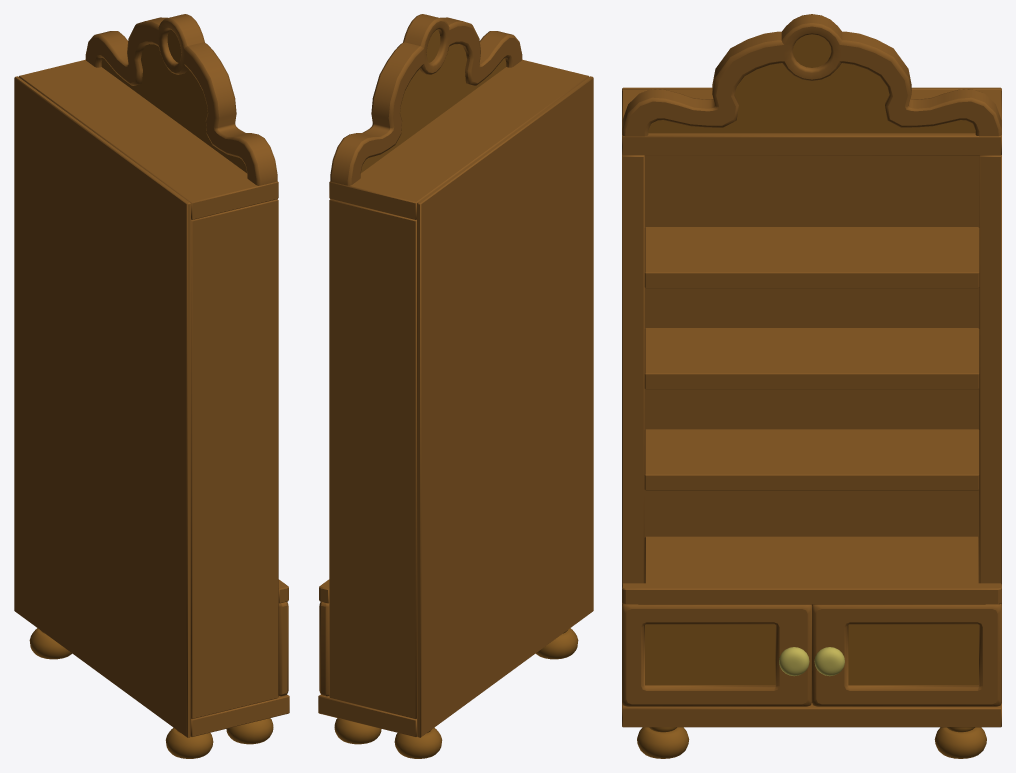
Rendered from Book Shelf3.glb.
The picture shows the model from 3 angles, left to right: view 1: azimuth 30°, elevation 25°; view 2: azimuth 150°, elevation 25°; view 3: azimuth 270°, elevation 25°; orthographic projection. The views are drawn at different scales.
Visible parts, largest first — view 1: Bookcase, Bookcase_door1; view 2: Bookcase, Bookcase_door2; view 3: Bookcase, Bookcase_door1, Bookcase_door2.
Boxes of the visible parts, <box> form: Bookcase: <box>14,14,289,758</box>; Bookcase_door1: <box>278,602,288,696</box>; Bookcase: <box>318,14,593,758</box>; Bookcase_door2: <box>319,602,329,696</box>; Bookcase: <box>622,14,1001,758</box>; Bookcase_door1: <box>622,603,811,706</box>; Bookcase_door2: <box>812,603,1001,706</box>.
Bounding box in the file's own units: 0.4524 × 2.42 × 1.14.
